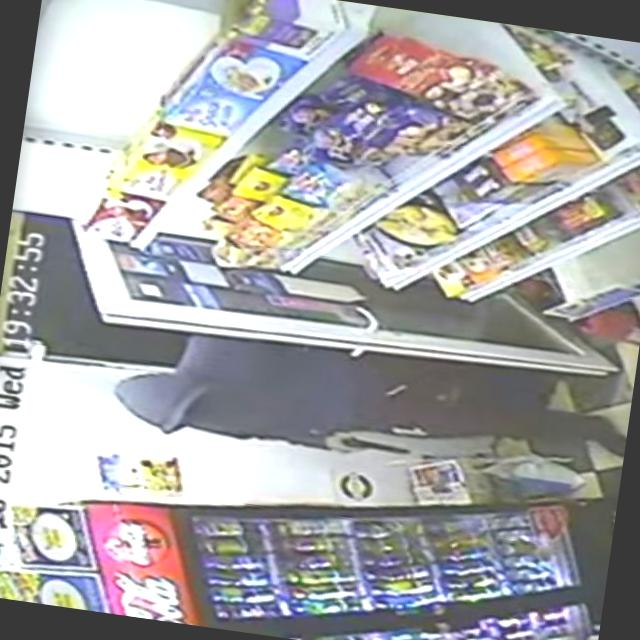handgun: (330, 434, 408, 462)
